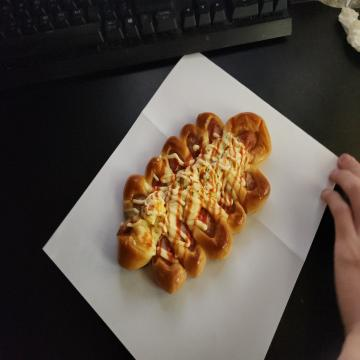pizza_bread: (117, 112, 272, 293)
